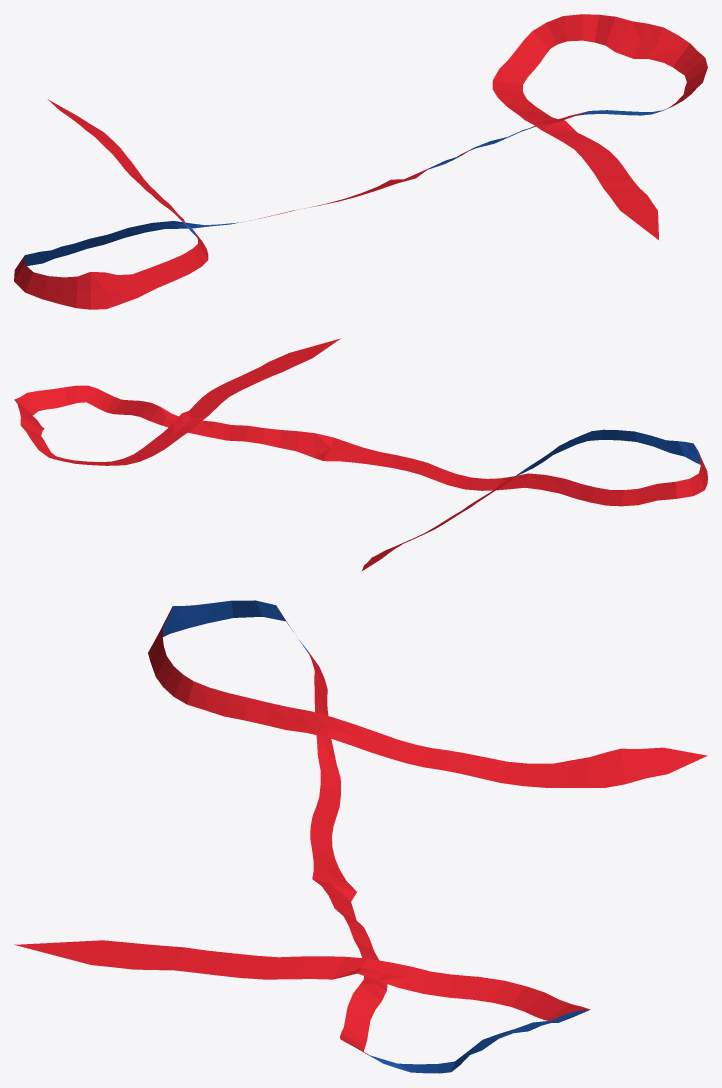
The picture shows the model from 3 angles, top to bottom: view 1: azimuth 30°, elevation 25°; view 2: azimuth 150°, elevation 25°; view 3: azimuth 270°, elevation 25°; orthographic projection. The views are drawn at different scales.
Parts seen in each view (by area): view 1: 473; view 2: 473; view 3: 473.
Boxes of the visible parts, x1,y1,x2,y2 form: 473: (14, 14, 707, 309); 473: (14, 338, 707, 571); 473: (14, 600, 707, 1073).
Bounding box in the file's own units: 2.17 × 0.1613 × 1.45.
